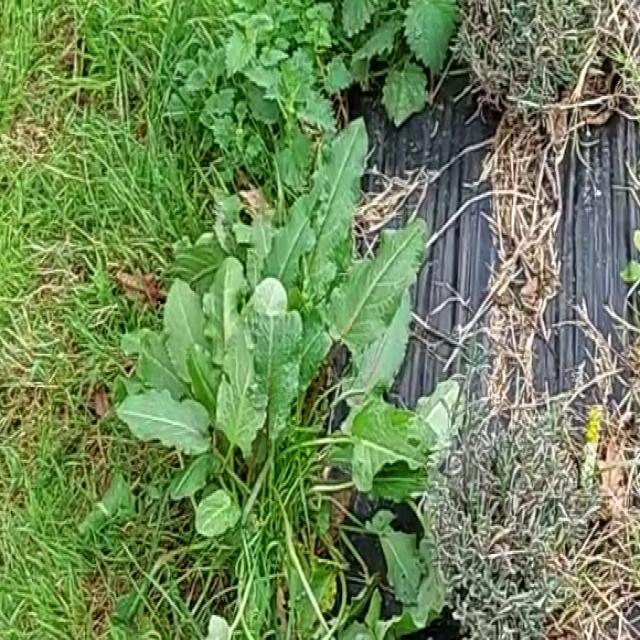organic waste: (124, 116, 474, 605)
